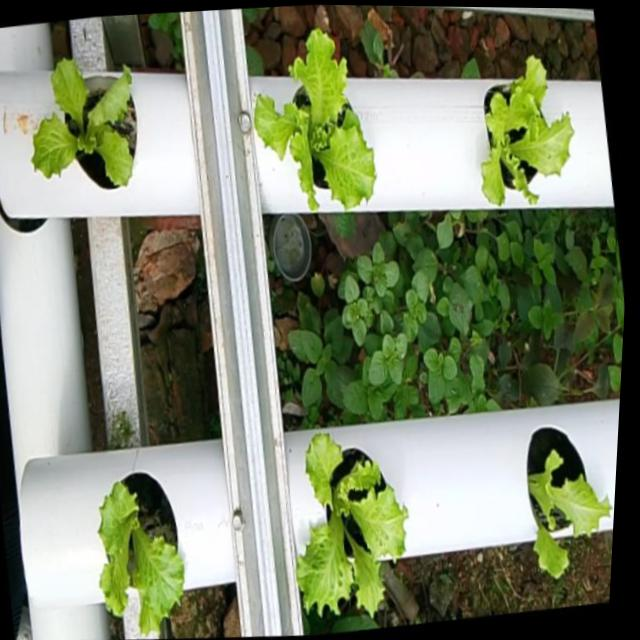Baby: (252, 30, 374, 213), (295, 434, 406, 629), (29, 59, 135, 192), (97, 474, 183, 637), (479, 56, 571, 205), (526, 426, 609, 577)
